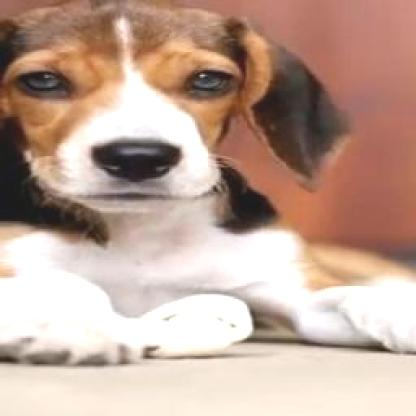dog: (0, 0, 414, 361)
